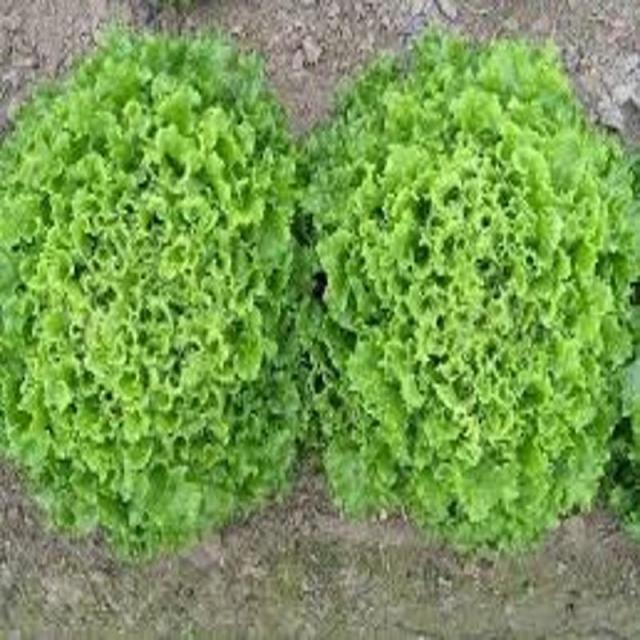Lettuce: (0, 25, 325, 567), (308, 30, 640, 550)
